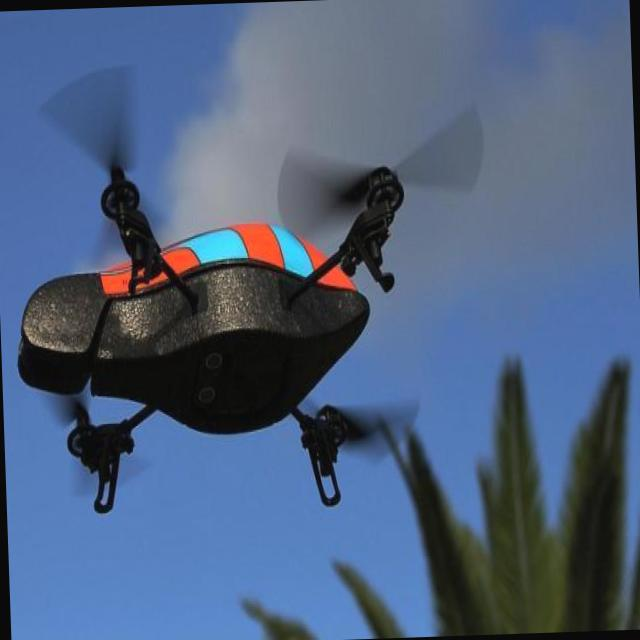drone: (11, 159, 417, 519)
